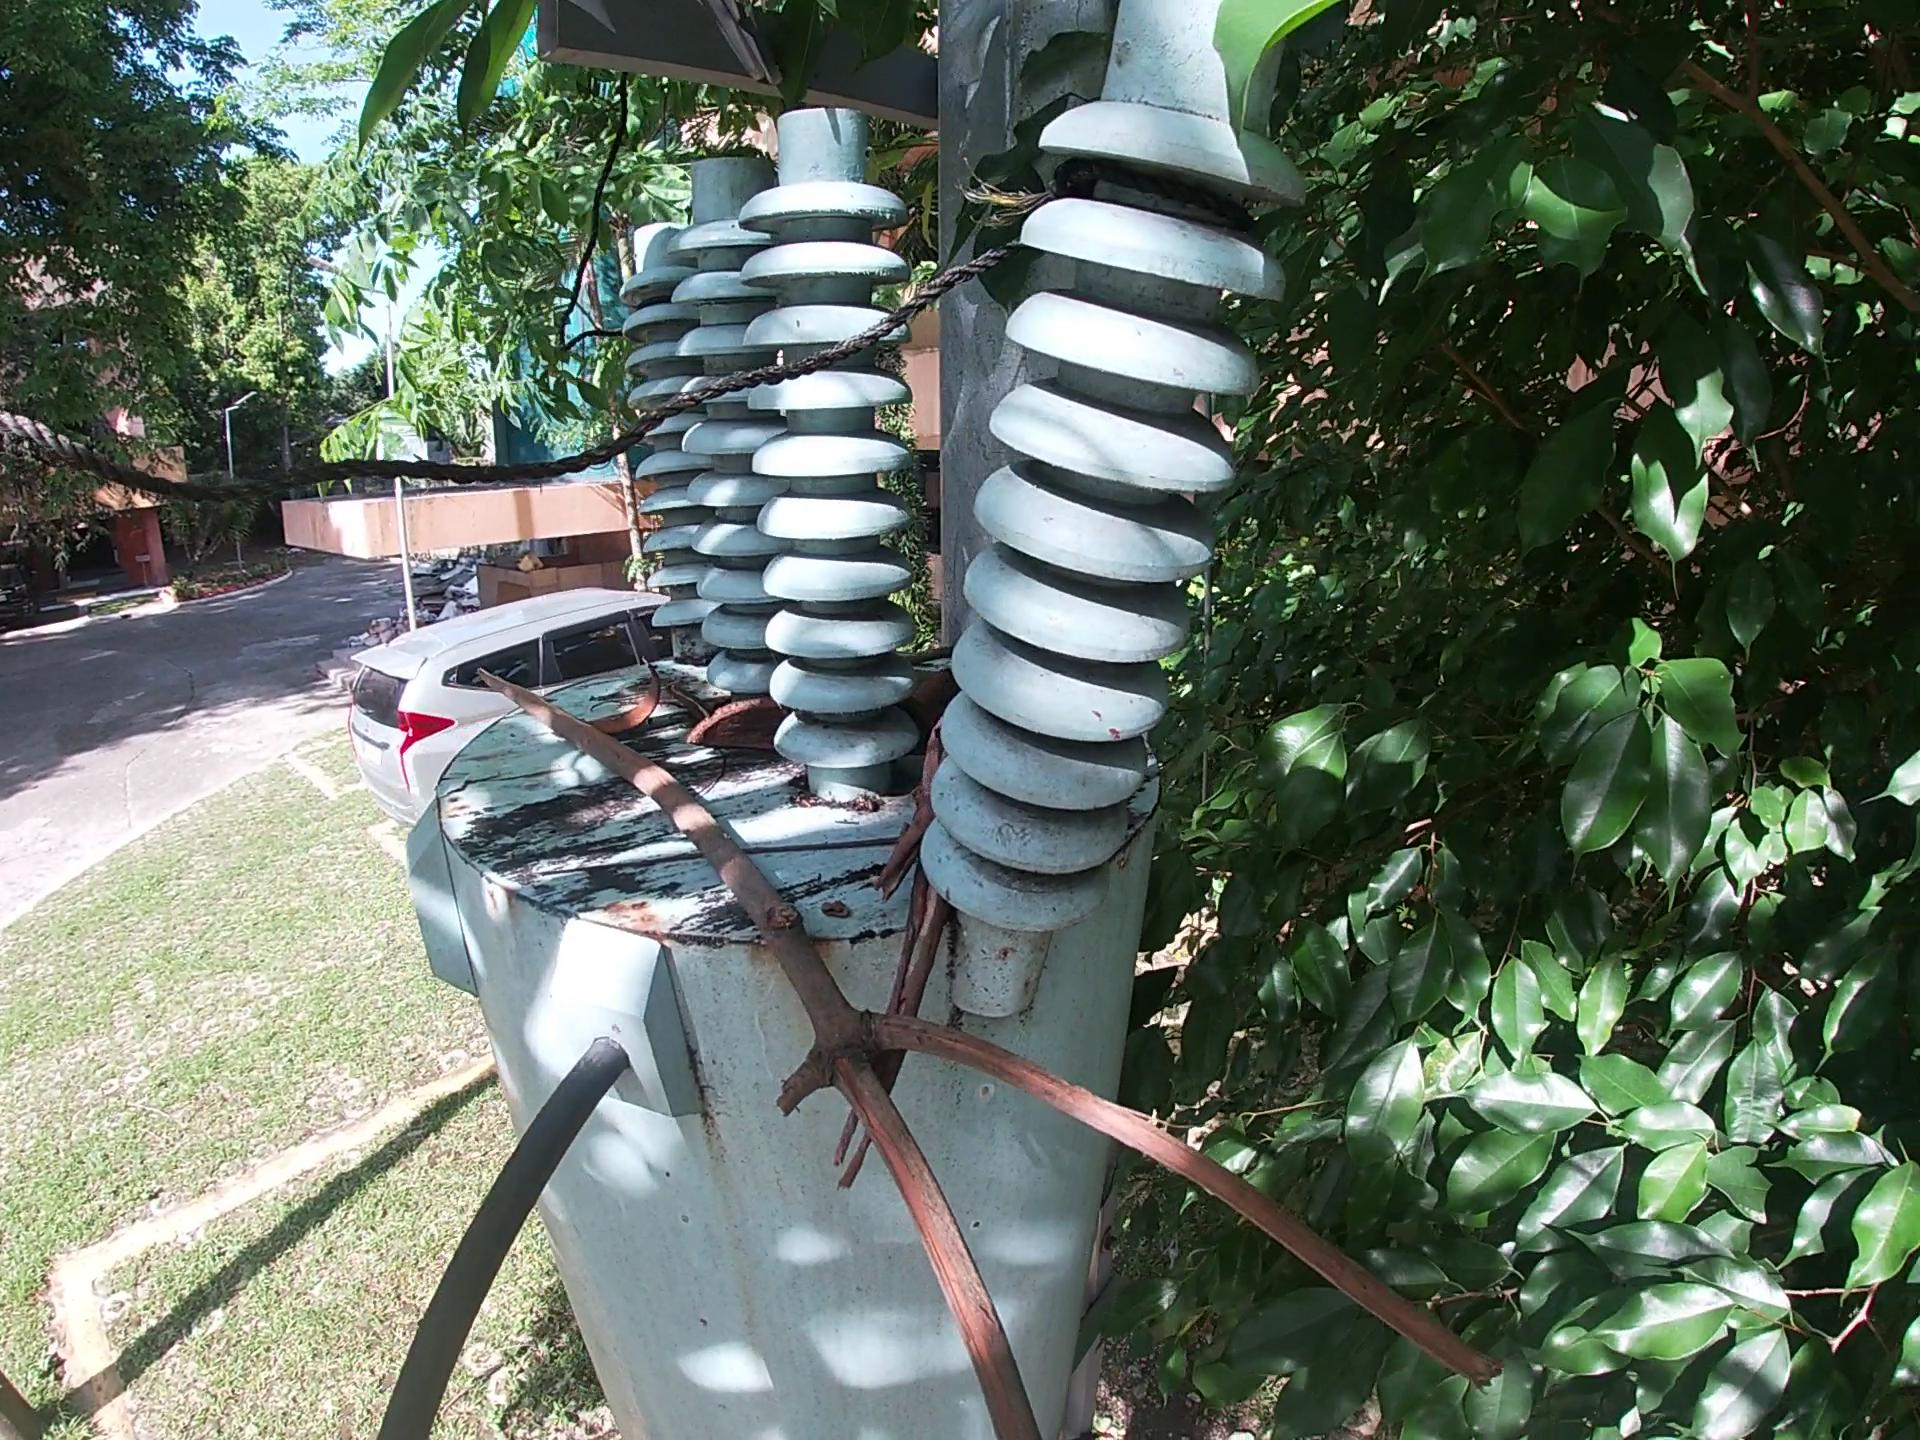mahogany fruit: (581, 653, 671, 743), (682, 696, 797, 759)
tree branch: (463, 655, 1510, 1437), (828, 712, 957, 1201)
